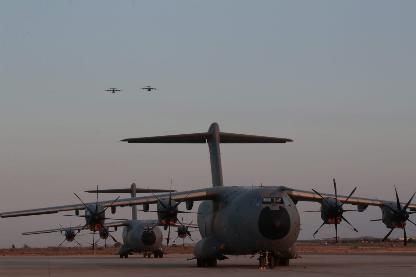A400M: (0, 121, 416, 268), (22, 182, 198, 257), (103, 87, 122, 92), (140, 85, 158, 90)
